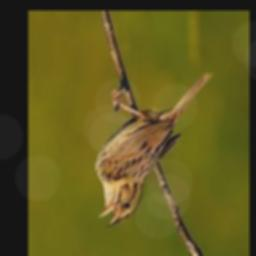Sparrow: (94, 71, 217, 229)
